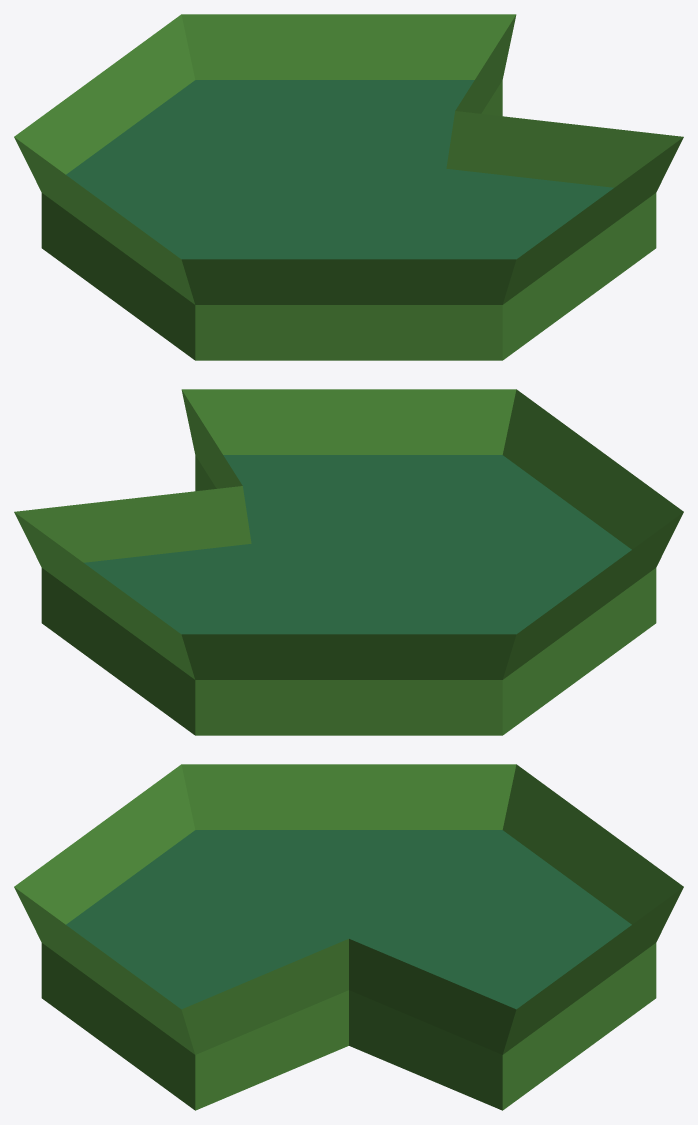
The model's file is lily_small.glb.
3 renders of one model, top to bottom at view 1: azimuth 30°, elevation 25°; view 2: azimuth 150°, elevation 25°; view 3: azimuth 270°, elevation 25°, orthographic.
Parts seen in each view (by area): view 1: lily_small; view 2: lily_small; view 3: lily_small.
Part boxes in pixels (bbox=[...]): lily_small: bbox=[14, 14, 683, 360]; lily_small: bbox=[14, 389, 683, 735]; lily_small: bbox=[14, 764, 683, 1110].
Size of the model in its own units: 0.1888 by 0.04 by 0.218.
